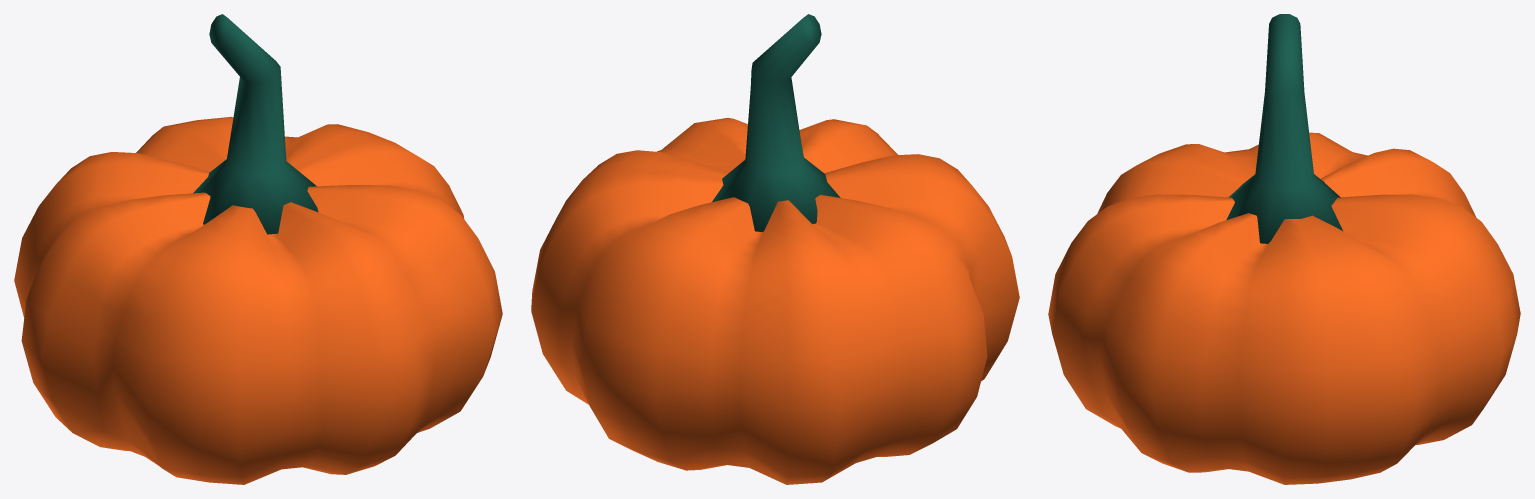
File: Bomb_Skin_1_Pumpkin.fbx
The picture shows the model from 3 angles, left to right: view 1: azimuth 30°, elevation 25°; view 2: azimuth 150°, elevation 25°; view 3: azimuth 270°, elevation 25°; orthographic projection. The views are drawn at different scales.
Visible parts, largest first — view 1: PumpkinOptimized; view 2: PumpkinOptimized; view 3: PumpkinOptimized.
Boxes of the visible parts, x1,y1,x2,y2 form: PumpkinOptimized: (14,14,502,484); PumpkinOptimized: (531,14,1019,484); PumpkinOptimized: (1048,14,1520,484).
Bounding box in the file's own units: 286 × 265 × 285.
